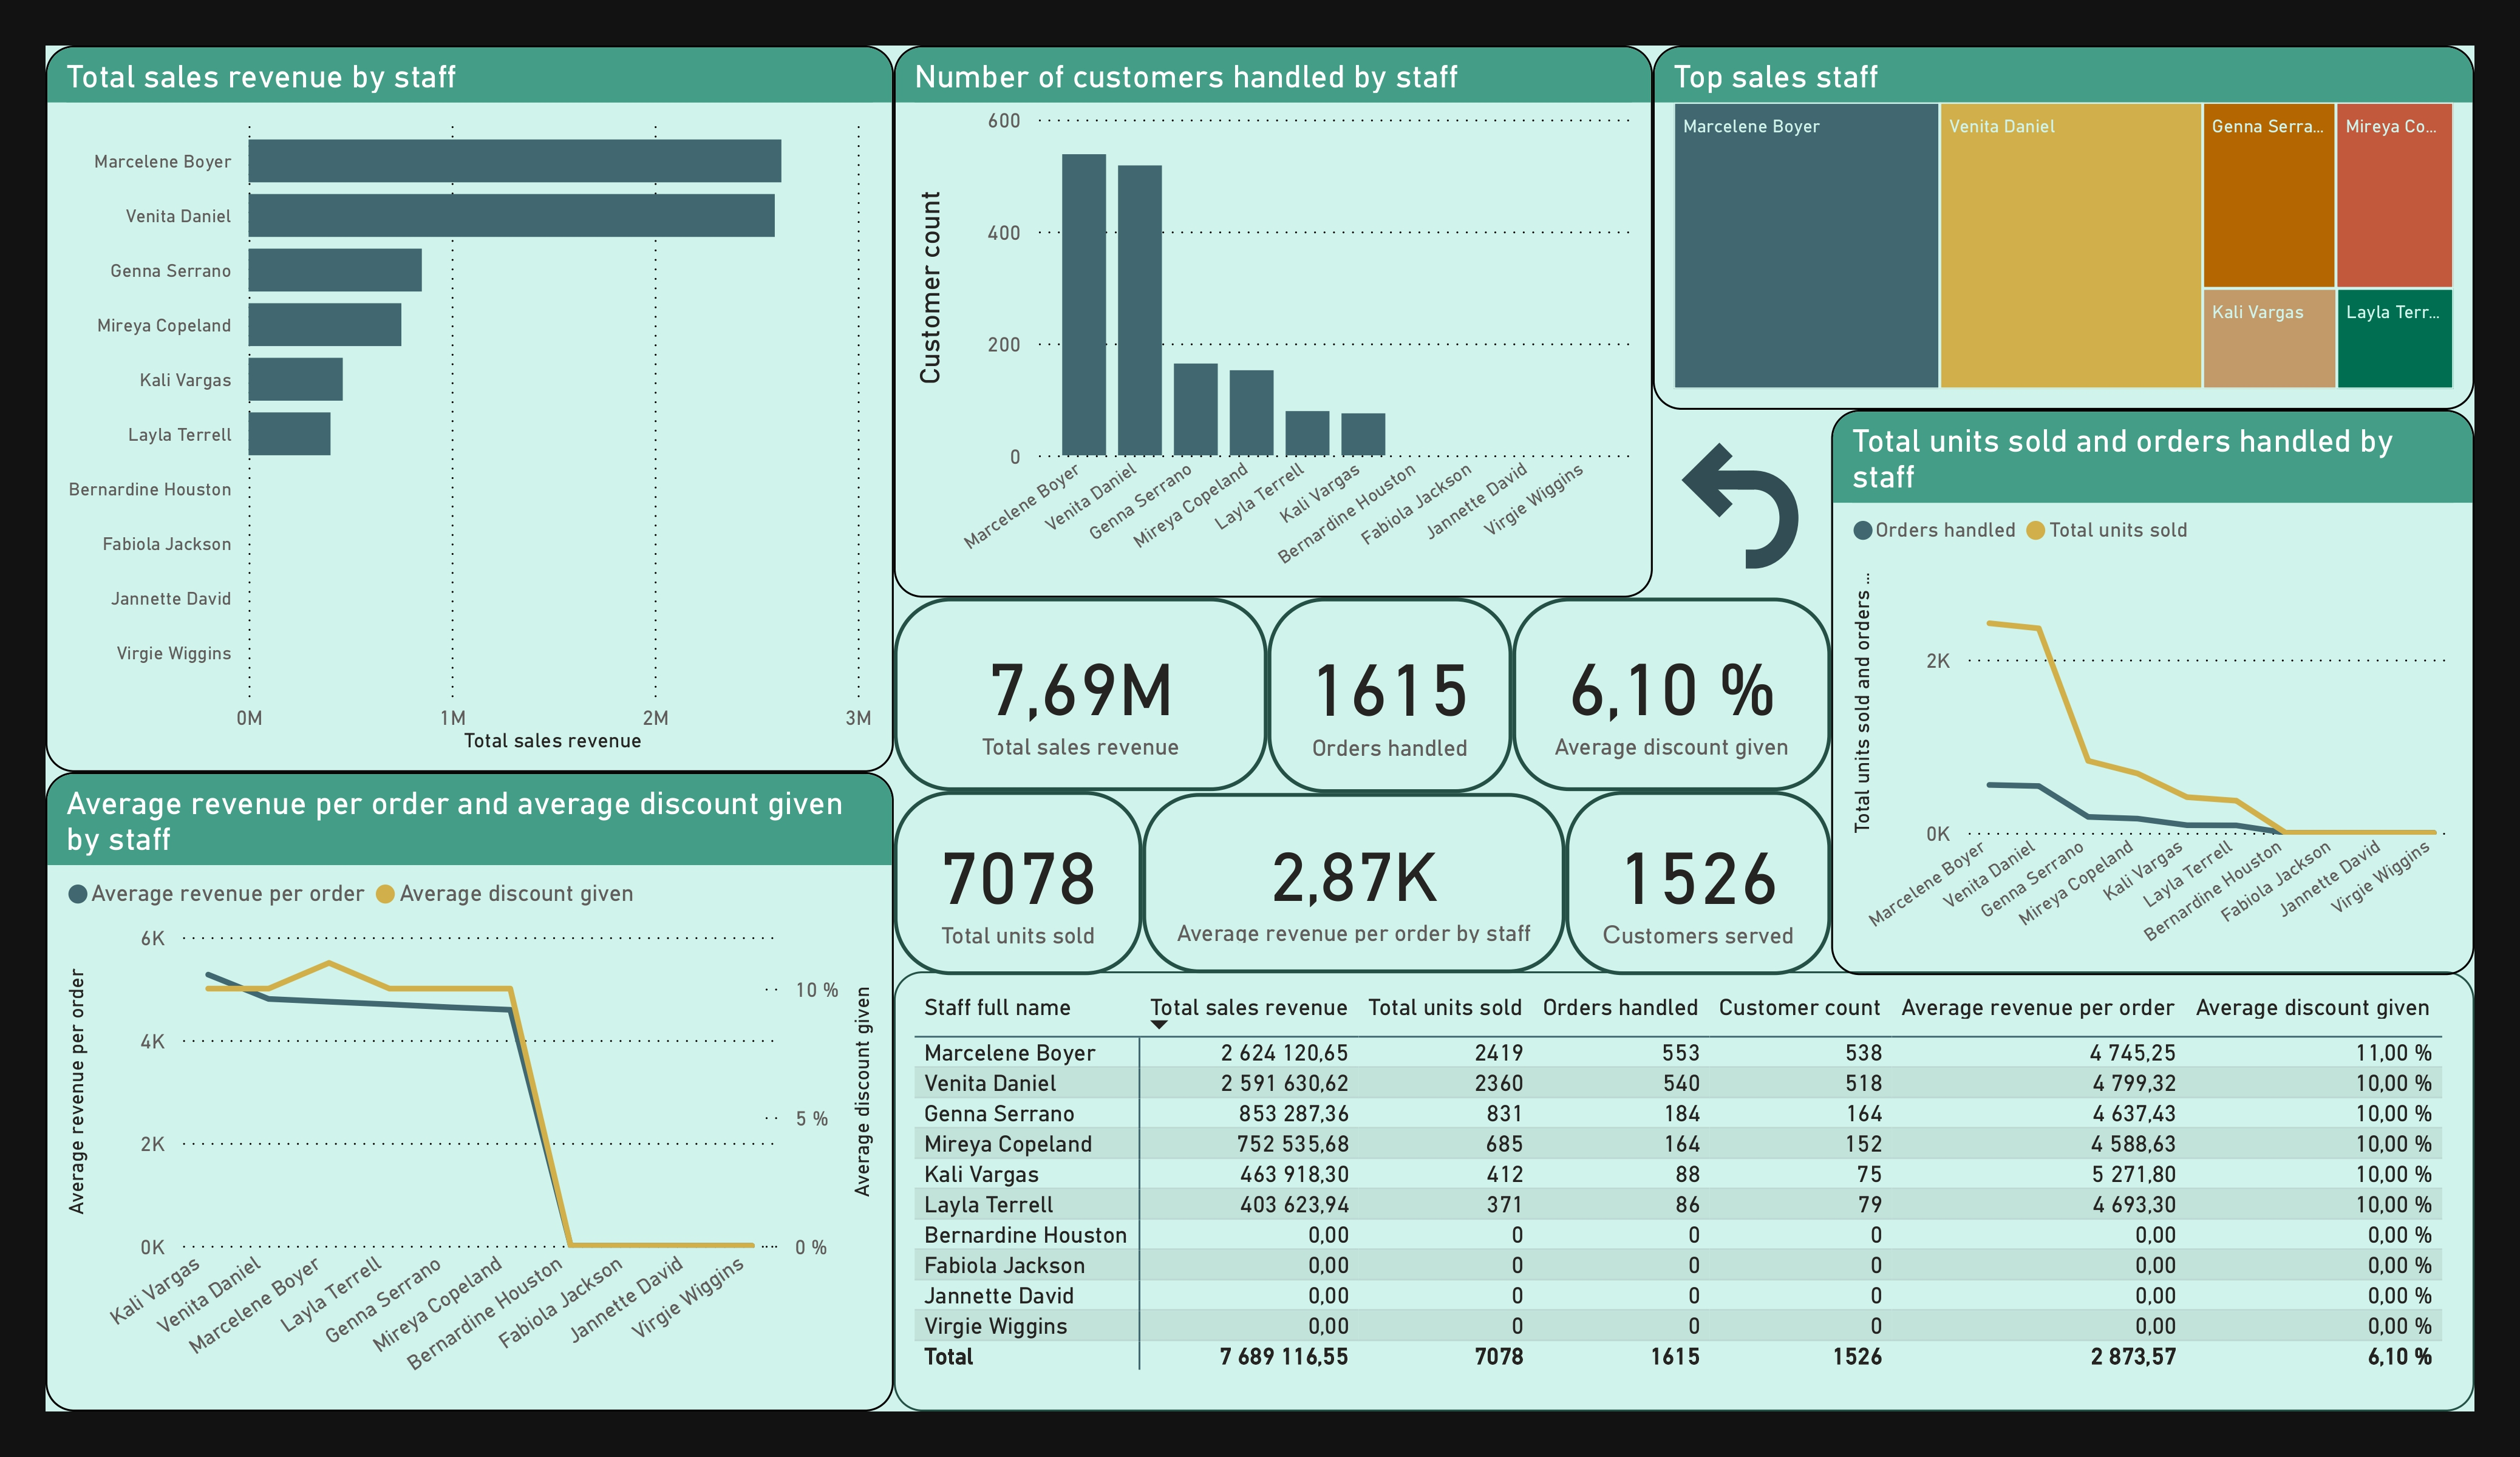

This screenshot's page, from the dashboard's own definition file:
{"tool":"powerbi","page":{"name":"staff_perfomance","canvas":[1280,720],"ordinal":2},"visuals":[{"type":"pivotTable","fields":{"Rows":["gold_layer staff_performance_analysis.staff_full_name"],"Values":["gold_layer staff_performance_analysis.total_sales_revenue","gold_layer staff_performance_analysis.total_sales_quantity","gold_layer staff_performance_analysis.orders_handled","gold_layer staff_performance_analysis.customer_count","gold_layer staff_performance_analysis.revenue_per_order","gold_layer staff_performance_analysis.average_discount_given"]},"box":[447.1,488.4,833.1,231.6],"z":0},{"type":"card","fields":{"Values":["gold_layer staff_performance_analysis.orders_handled"]},"box":[644.1,291,129,103.4],"z":1000},{"type":"clusteredBarChart","title":"Total sales revenue by staff","fields":{"Category":["gold_layer staff_performance_analysis.staff_full_name"],"Y":["gold_layer staff_performance_analysis.total_sales_revenue"]},"box":[0,0,447.1,383.3],"z":2000},{"type":"columnChart","title":"Number of customers handled by staff","fields":{"Category":["gold_layer staff_performance_analysis.staff_full_name"],"Y":["gold_layer staff_performance_analysis.customer_count"]},"box":[447.4,0,399.8,291],"z":3000},{"type":"treemap","title":"Top sales staff","fields":{"Group":["gold_layer staff_performance_analysis.staff_full_name"],"Values":["gold_layer staff_performance_analysis.total_sales_revenue"]},"box":[847.5,0,432.7,192.1],"z":4000},{"type":"lineChart","title":"Average revenue per order and average discount given  by staff","fields":{"Category":["gold_layer staff_performance_analysis.staff_full_name"],"Y":["gold_layer staff_performance_analysis.revenue_per_order"],"Y2":["gold_layer staff_performance_analysis.average_discount_given"]},"box":[0,383.3,447.1,336.7],"z":5000},{"type":"card","fields":{"Values":["gold_layer staff_performance_analysis.average_discount_given"]},"box":[773.1,291,167.4,102.5],"z":6000},{"type":"card","fields":{"Values":["gold_layer staff_performance_analysis.total_sales_quantity"]},"box":[447.4,393.4,130.8,97],"z":7000},{"type":"card","fields":{"Values":["gold_layer staff_performance_analysis.total_sales_revenue"]},"box":[447.4,291,196.7,102.5],"z":8000},{"type":"lineChart","title":"Total units sold and orders handled by staff","fields":{"Category":["gold_layer staff_performance_analysis.staff_full_name"],"Y":["gold_layer staff_performance_analysis.orders_handled","gold_layer staff_performance_analysis.total_sales_quantity"]},"box":[940.8,192.1,339.4,298.1],"z":9000},{"type":"card","fields":{"Values":["gold_layer staff_performance_analysis.customer_count"]},"box":[800.6,393.4,140,97],"z":10000},{"type":"card","fields":{"Values":["gold_layer staff_performance_analysis.revenue_per_order"]},"box":[578.2,394.3,222.3,95.2],"z":11000},{"type":"actionButton","box":[847.2,192.1,93.3,98.8],"z":12000}]}

Visuals, with their boxes on the page's 1280x720 design canvas (x1, y1, x2, y2). These are canvas units, not pixel positions in the 2520x1457 screenshot, which may show the page scaled, cropped or inside an application window:
pivotTable - gold_layer staff_performance_analysis.staff_full_name x gold_layer staff_performance_analysis.total_sales_revenue: (left=447, top=488, right=1280, bottom=720)
card - gold_layer staff_performance_analysis.orders_handled: (left=644, top=291, right=773, bottom=394)
"Total sales revenue by staff" clusteredBarChart: (left=0, top=0, right=447, bottom=383)
"Number of customers handled by staff" columnChart: (left=447, top=0, right=847, bottom=291)
"Top sales staff" treemap: (left=848, top=0, right=1280, bottom=192)
"Average revenue per order and average discount given  by staff" lineChart: (left=0, top=383, right=447, bottom=720)
card - gold_layer staff_performance_analysis.average_discount_given: (left=773, top=291, right=940, bottom=394)
card - gold_layer staff_performance_analysis.total_sales_quantity: (left=447, top=393, right=578, bottom=490)
card - gold_layer staff_performance_analysis.total_sales_revenue: (left=447, top=291, right=644, bottom=394)
"Total units sold and orders handled by staff" lineChart: (left=941, top=192, right=1280, bottom=490)
card - gold_layer staff_performance_analysis.customer_count: (left=801, top=393, right=941, bottom=490)
card - gold_layer staff_performance_analysis.revenue_per_order: (left=578, top=394, right=800, bottom=490)
actionButton: (left=847, top=192, right=940, bottom=291)
